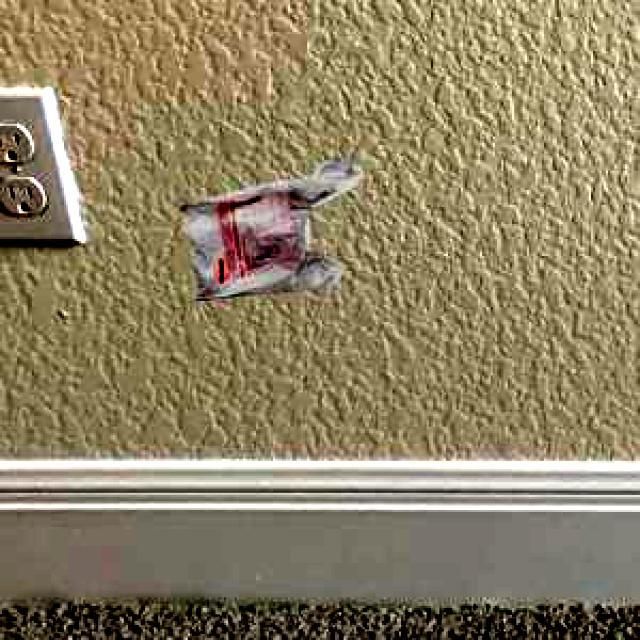Plastic_Bag: (178, 154, 360, 298)
